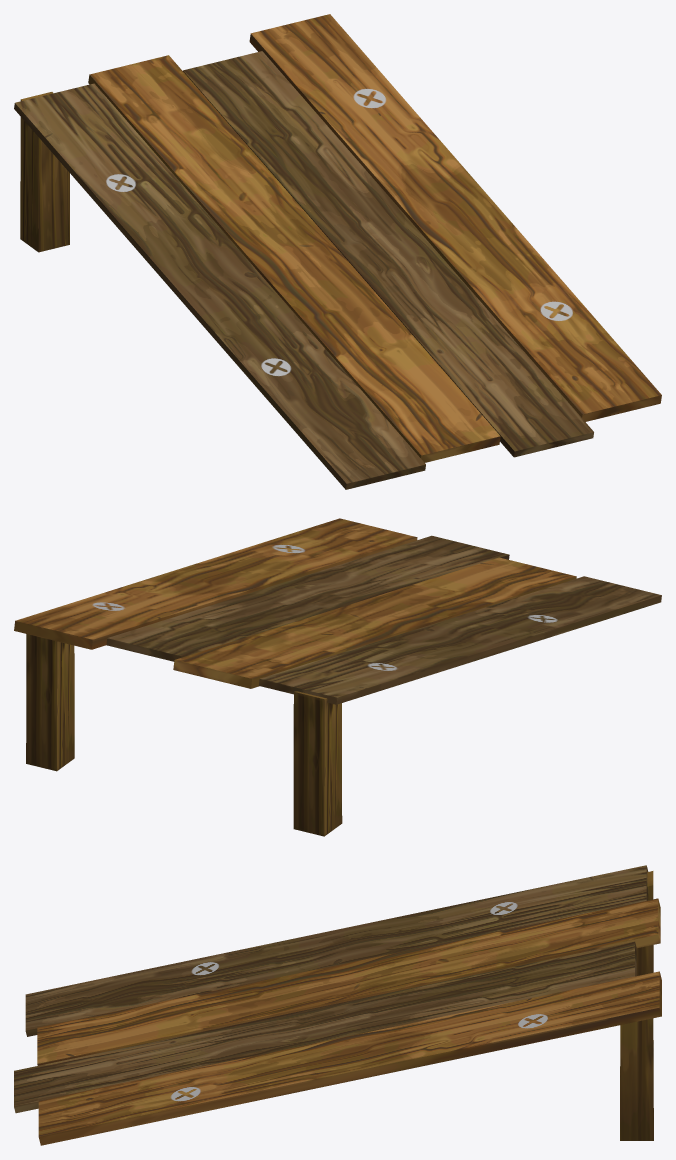
The model's file is ramp.fbx.
3 views of the same model, one above another, from view 1: azimuth 30°, elevation 25°; view 2: azimuth 150°, elevation 25°; view 3: azimuth 270°, elevation 25° (orthographic). The views are drawn at different scales.
Parts seen in each view (by area): view 1: ramp; view 2: ramp; view 3: ramp.
Boxes of the visible parts, box(x1,y1,x2,y2) form: ramp: box(14, 14, 661, 489); ramp: box(14, 518, 661, 836); ramp: box(14, 865, 661, 1145).
Bounding box in the file's own units: 133 × 60.16 × 248.
Materials: 1 (1 with a texture image).
